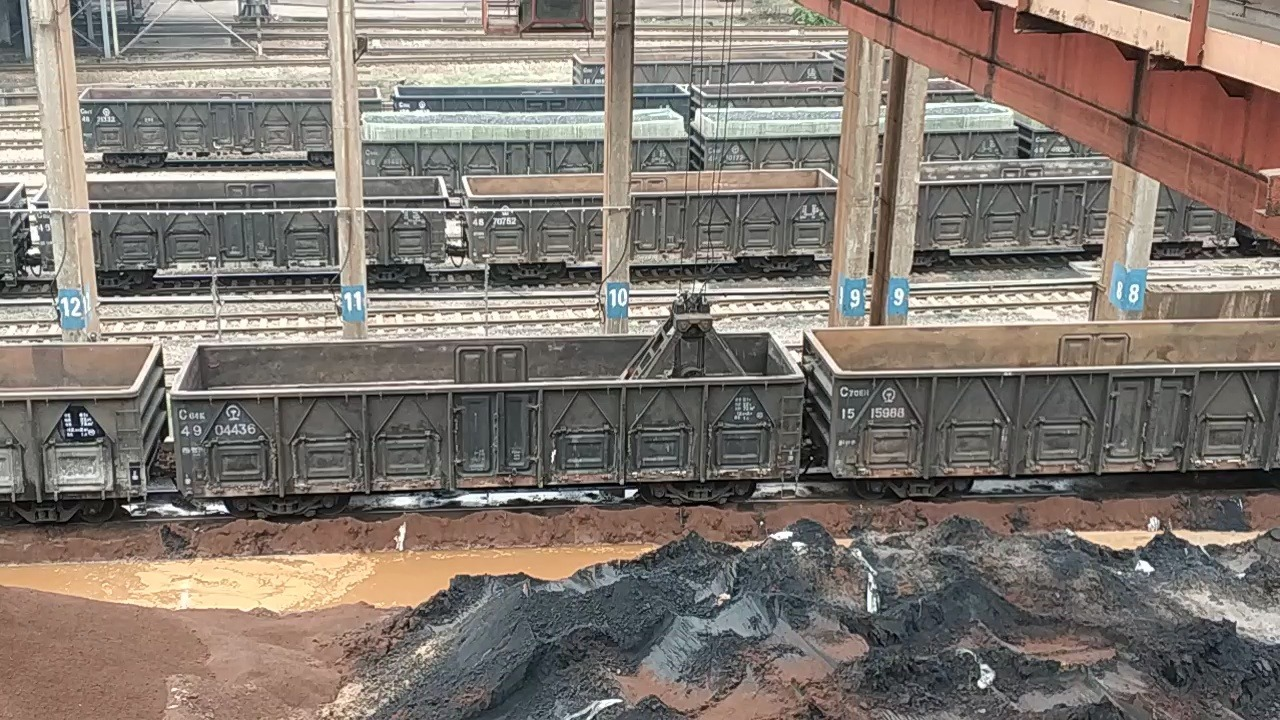grab: (613, 287, 758, 387)
